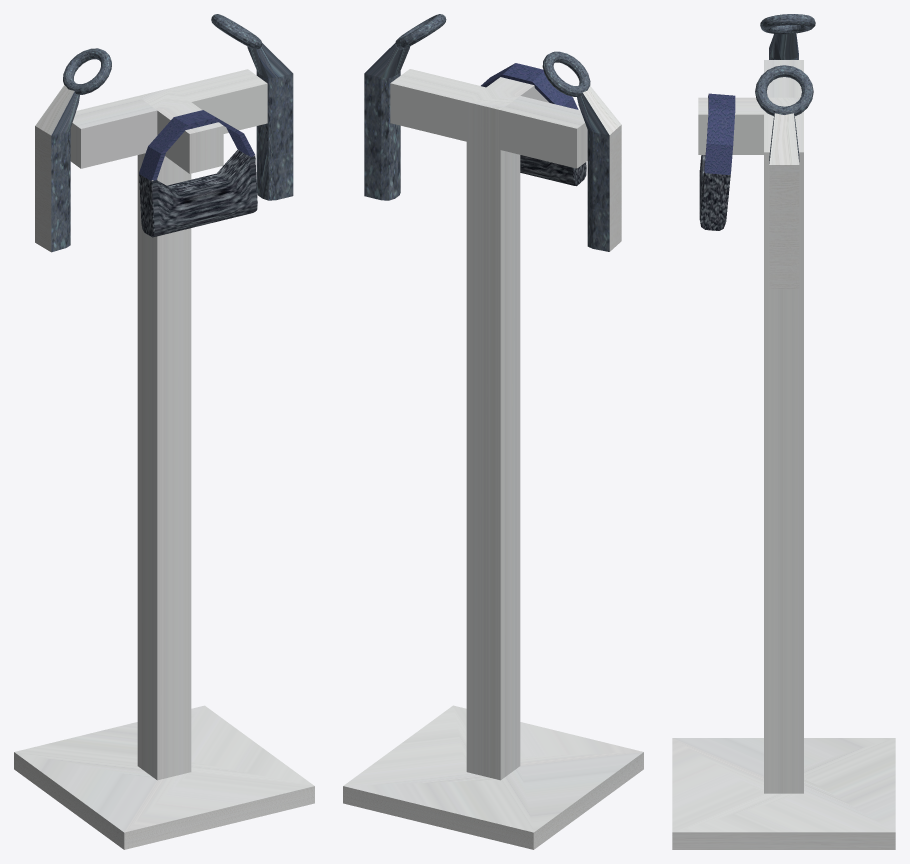
File: VRStandV1.gltf
3 renders of one model, left to right at view 1: azimuth 30°, elevation 25°; view 2: azimuth 150°, elevation 25°; view 3: azimuth 270°, elevation 25°, orthographic.
Parts seen in each view (by area): view 1: Cube, Cube.002, Cube.004, Cube.003; view 2: Cube, Cube.004, Cube.003, Cube.002; view 3: Cube, Cube.003, Cube.002, Cube.004.
Part boxes in pixels (box(x1,y1,x2,y2)): Cube: box(14, 69, 314, 849); Cube.002: box(139, 110, 257, 237); Cube.004: box(35, 48, 111, 252); Cube.003: box(211, 14, 293, 200); Cube: box(343, 69, 643, 849); Cube.004: box(542, 51, 621, 251); Cube.003: box(364, 14, 446, 200); Cube.002: box(481, 63, 586, 186); Cube: box(672, 60, 895, 849); Cube.003: box(755, 65, 813, 289); Cube.002: box(699, 93, 735, 230); Cube.004: box(760, 14, 815, 59).
Bounding box in the file's own units: 0.6408 × 1.89 × 0.5.
Materials: 2 (2 with a texture image).
